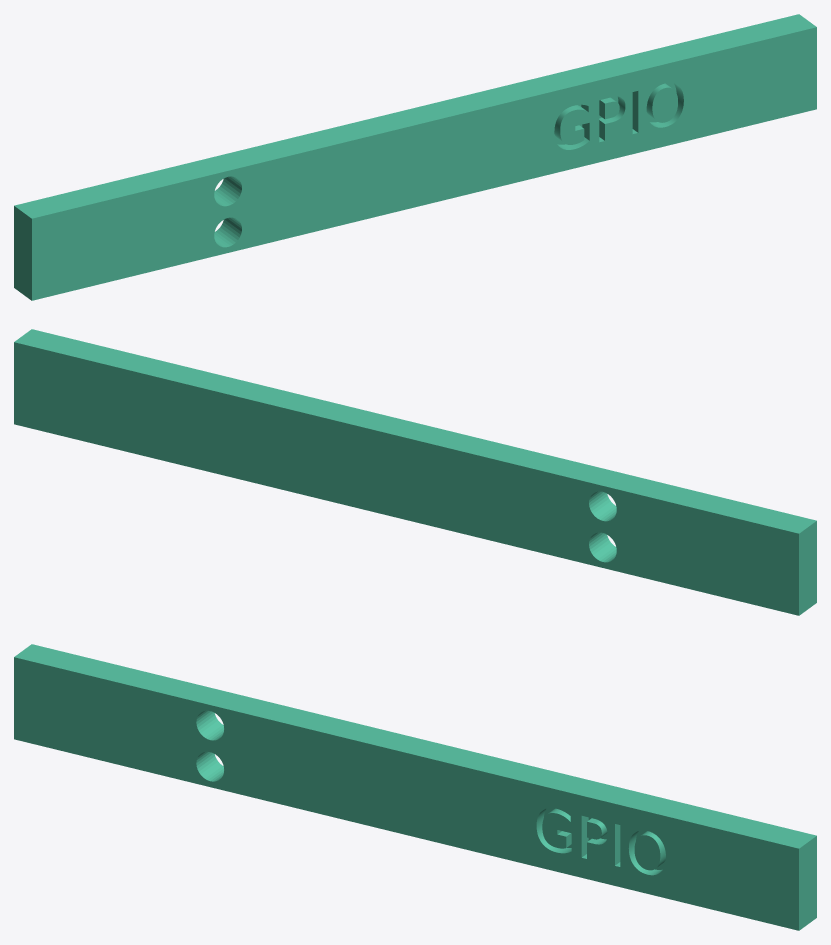
File: engraved-clip.glb
3 renders of one model, top to bottom at view 1: azimuth 30°, elevation 25°; view 2: azimuth 150°, elevation 25°; view 3: azimuth 330°, elevation 25°, orthographic.
Visible parts, largest first — view 1: world; view 2: world; view 3: world.
Part boxes in pixels (x1=…): world: x1=14, y1=14, x2=816, y2=300; world: x1=14, y1=329, x2=816, y2=615; world: x1=14, y1=644, x2=816, y2=930.
Size of the model in its own units: 50.8 by 5.08 by 2.
